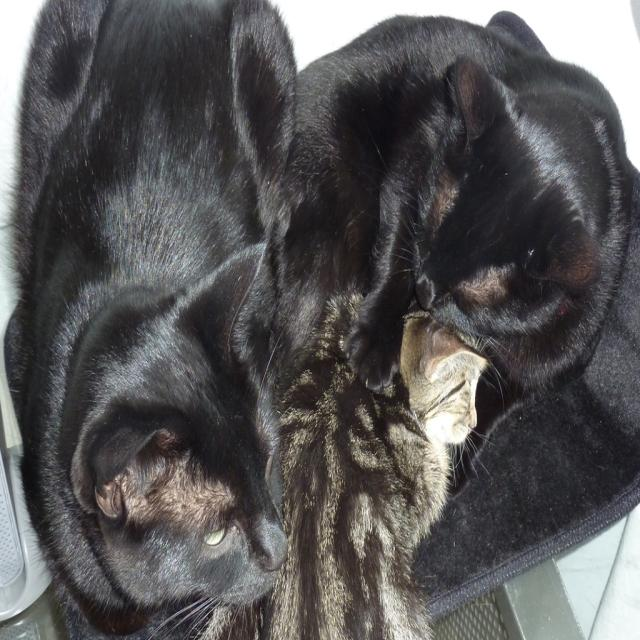Cat: (228, 15, 626, 504), (4, 0, 288, 639), (190, 275, 502, 639)
